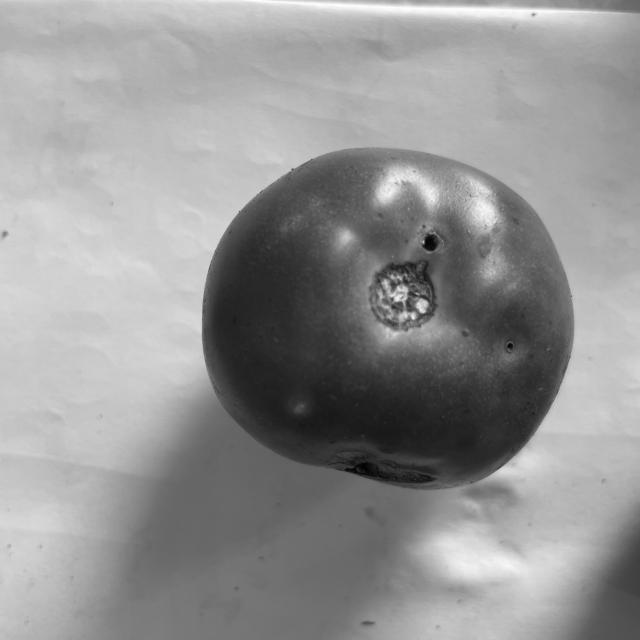fruitworm_bore: (407, 222, 451, 262)
